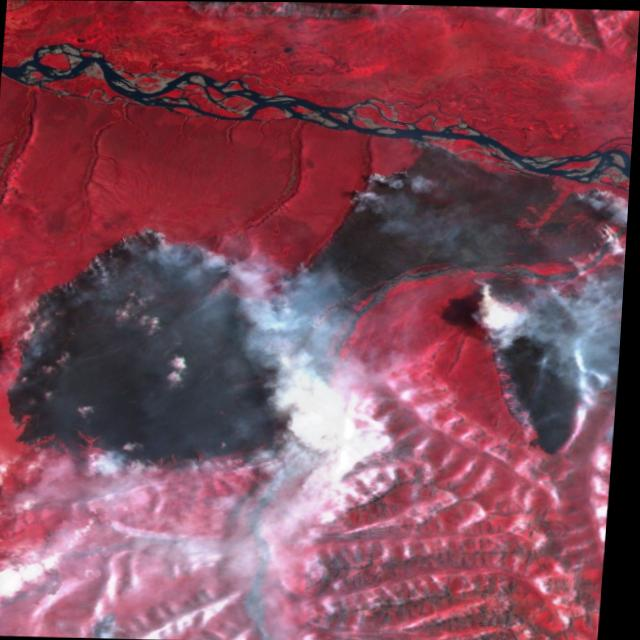fire: (1, 118, 635, 493), (85, 603, 146, 639)
